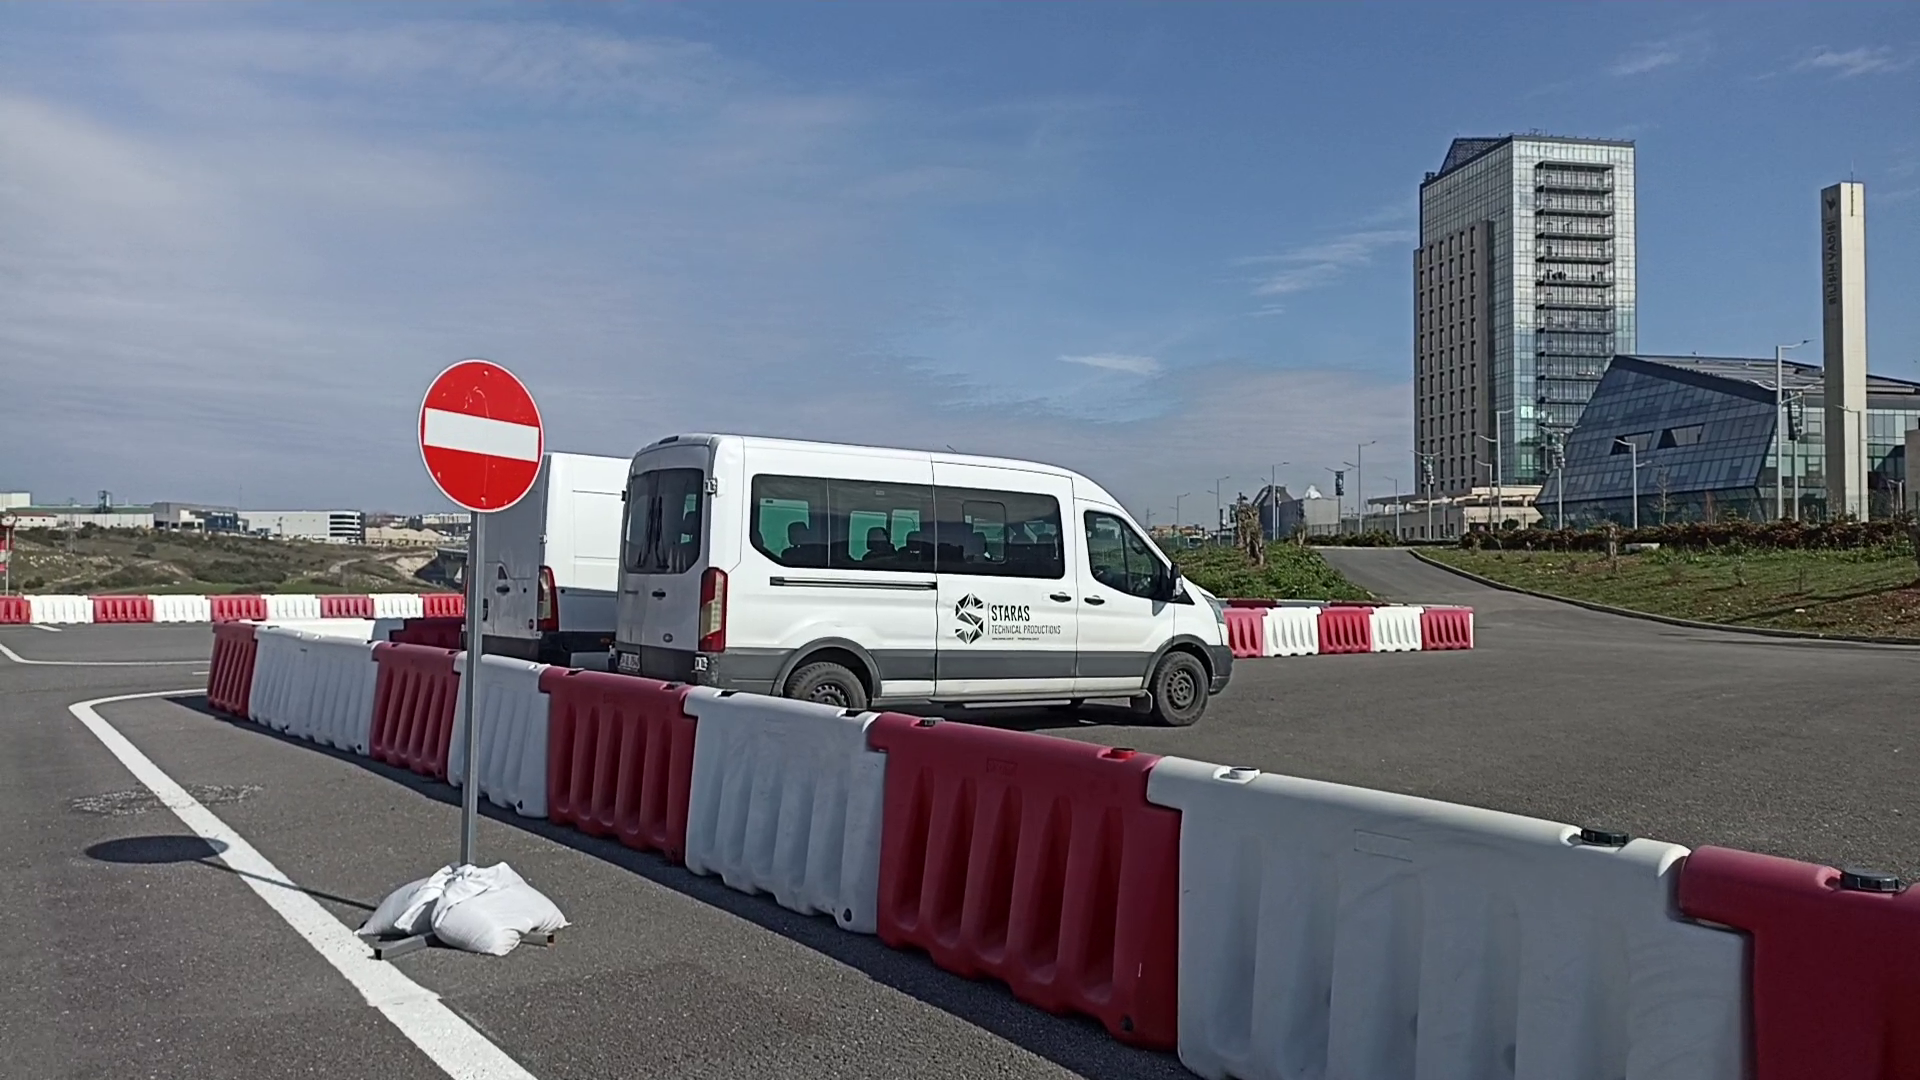noentryway: (414, 357, 549, 517)
